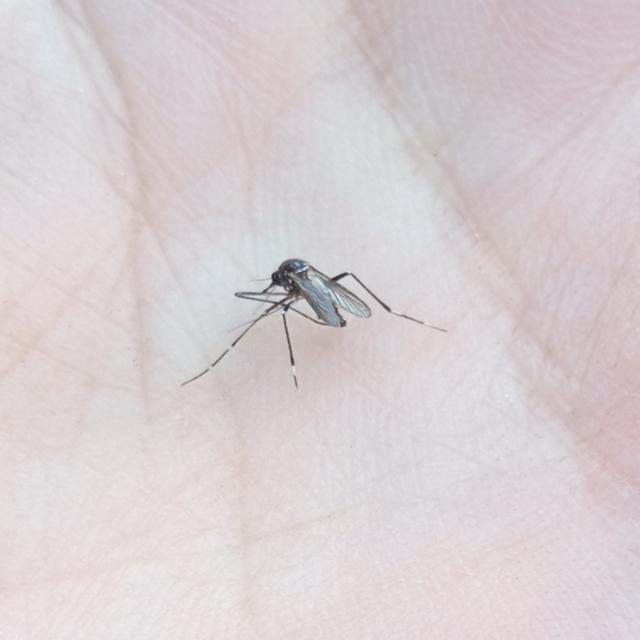albopictus: (184, 244, 441, 395)
